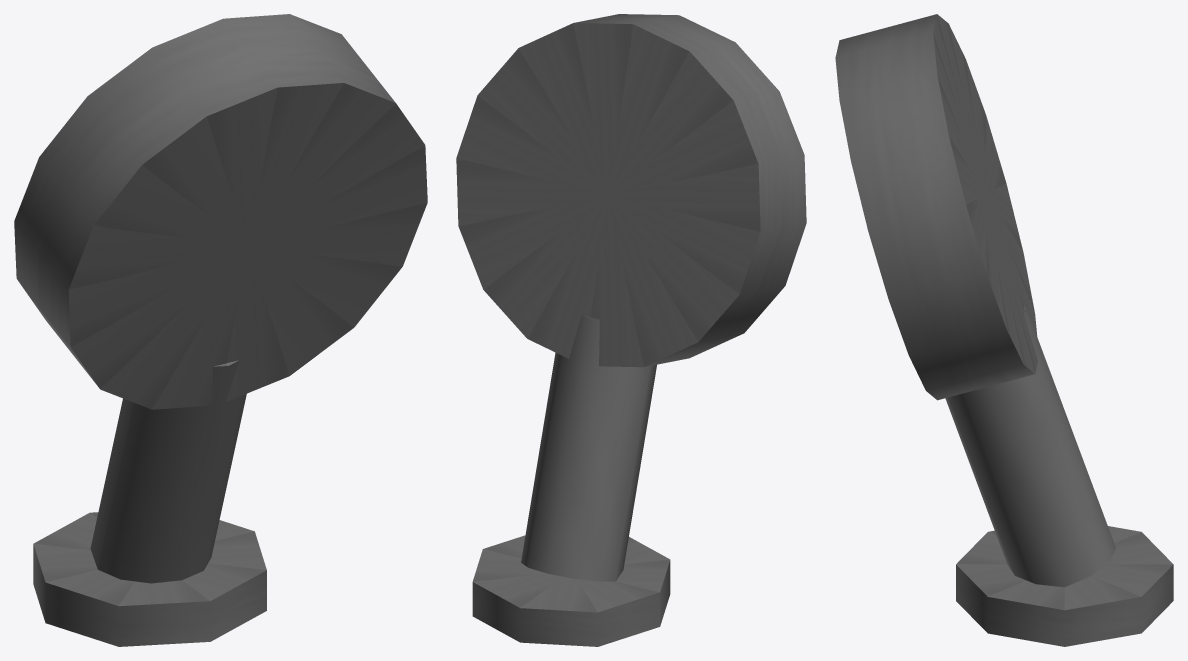
File: mastarmcurve_8x2_c4_down.obj
The picture shows the model from 3 angles, left to right: view 1: azimuth 30°, elevation 25°; view 2: azimuth 150°, elevation 25°; view 3: azimuth 270°, elevation 25°; orthographic projection. The views are drawn at different scales.
Parts seen in each view (by area): view 1: mastarm_8x2_c4_down; view 2: mastarm_8x2_c4_down; view 3: mastarm_8x2_c4_down.
Boxes of the visible parts, x1,y1,x2,y2 form: mastarm_8x2_c4_down: [14, 14, 427, 646]; mastarm_8x2_c4_down: [456, 14, 806, 646]; mastarm_8x2_c4_down: [835, 14, 1173, 646].
Bounding box in the file's own units: 0.6865 × 1.15 × 0.6217.
